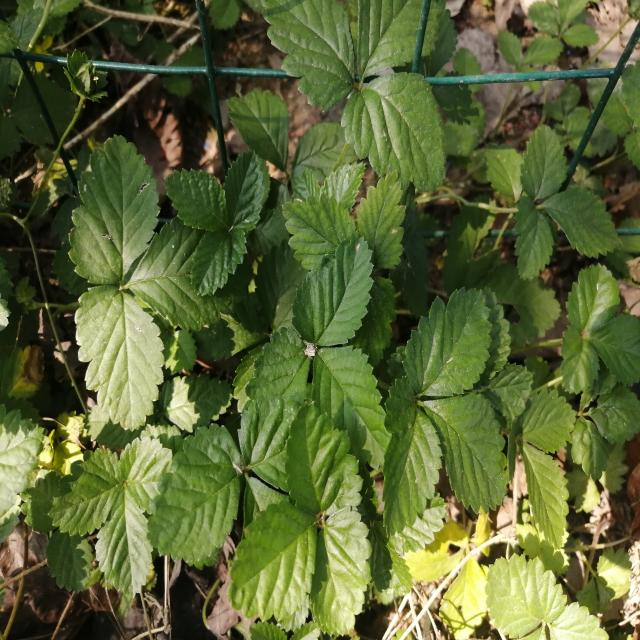Mock_strawberry: (146, 406, 390, 628), (390, 299, 601, 546), (204, 150, 420, 390), (59, 150, 246, 398)
